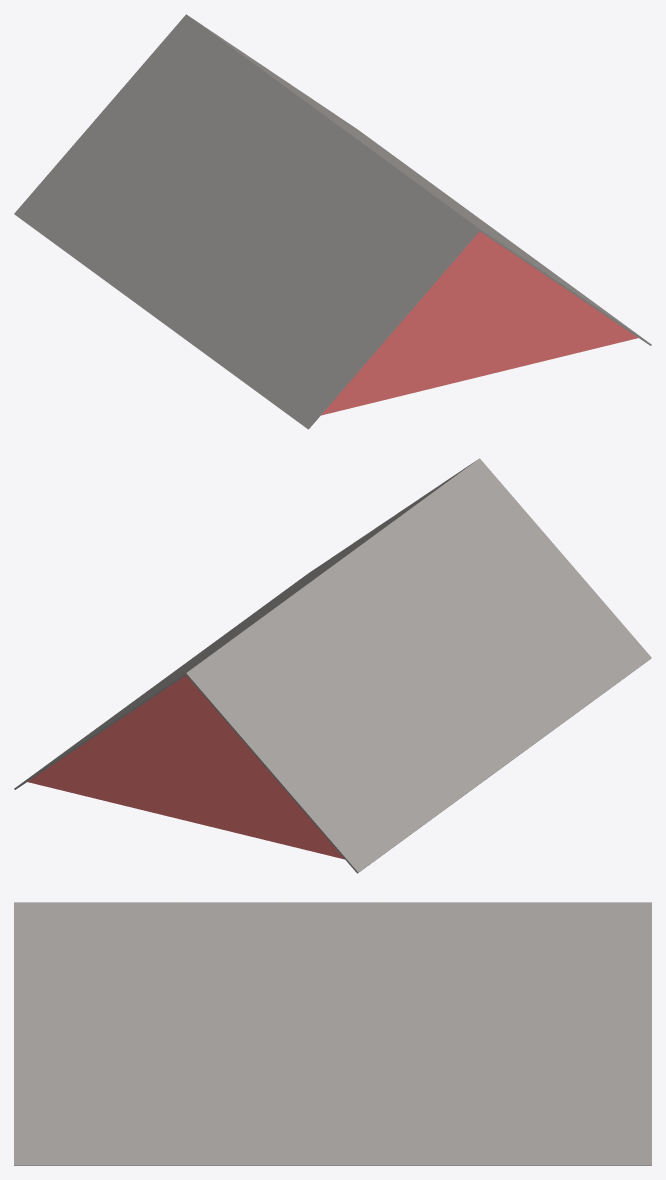
Rendered from SmallRoof.fbx.
3 views of the same model, one above another, from view 1: azimuth 30°, elevation 25°; view 2: azimuth 150°, elevation 25°; view 3: azimuth 270°, elevation 25° (orthographic). The views are drawn at different scales.
Visible parts, largest first — view 1: SmallRoof; view 2: SmallRoof; view 3: SmallRoof.
Boxes of the visible parts, x1=… form: SmallRoof: x1=14, y1=14, x2=651, y2=429; SmallRoof: x1=14, y1=458, x2=651, y2=873; SmallRoof: x1=14, y1=902, x2=651, y2=1165.
Bounding box in the file's own units: 1680 × 741 × 2480.
